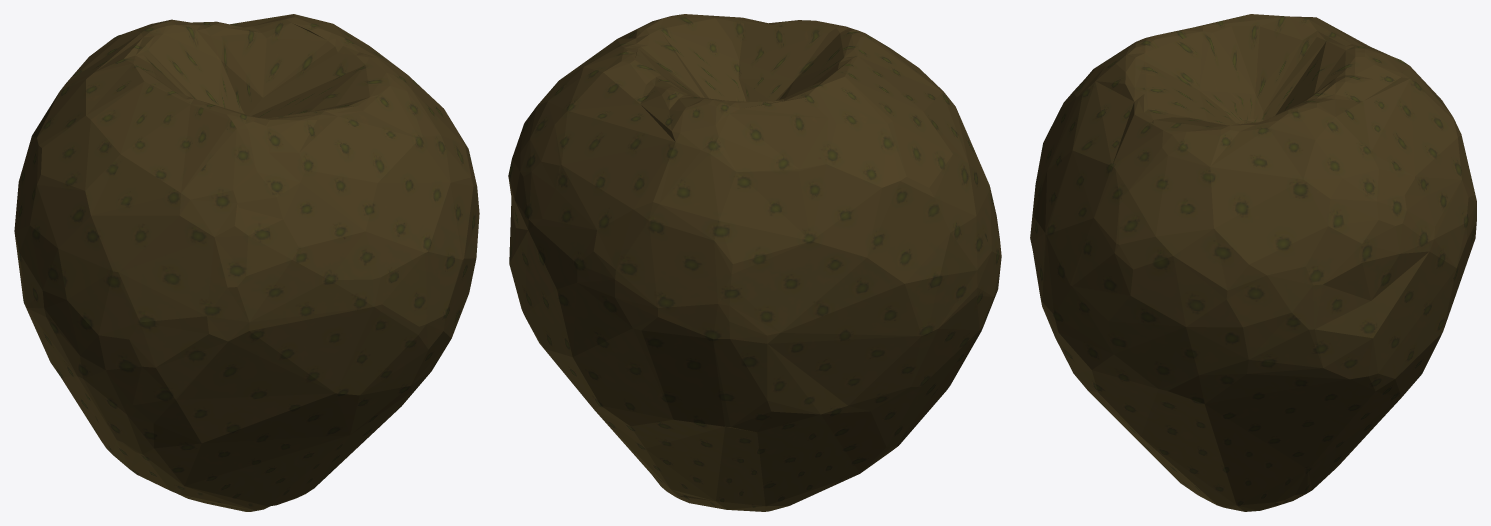
3 renders of one model, left to right at view 1: azimuth 30°, elevation 25°; view 2: azimuth 150°, elevation 25°; view 3: azimuth 270°, elevation 25°, orthographic. The views are drawn at different scales.
Visible parts, largest first — view 1: _000_Meshed; view 2: _000_Meshed; view 3: _000_Meshed.
Boxes of the visible parts, box(x1,y1,x2,y2) form: _000_Meshed: box(14, 14, 479, 511); _000_Meshed: box(508, 14, 1001, 511); _000_Meshed: box(1030, 14, 1476, 511).
Bounding box in the file's own units: 0.1127 × 0.1067 × 0.1146.
1 material, 1 textured.
